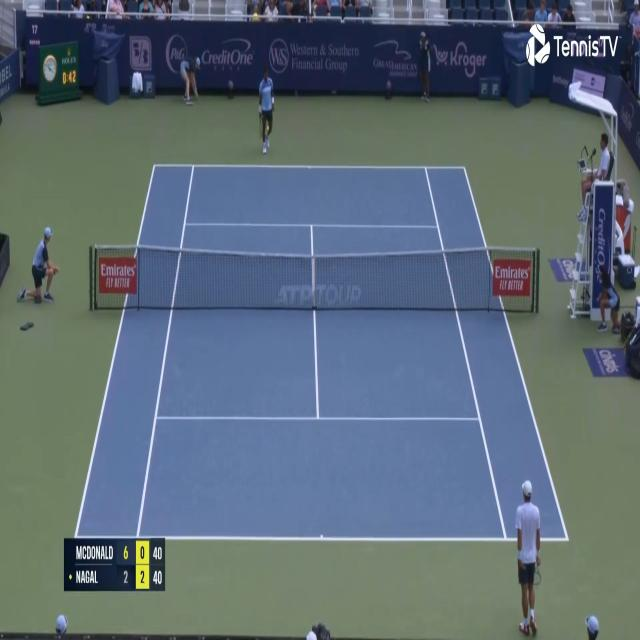tennis-player: (513, 476, 544, 640), (255, 65, 277, 157)
